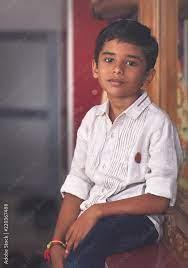Human: (59, 9, 171, 268)
